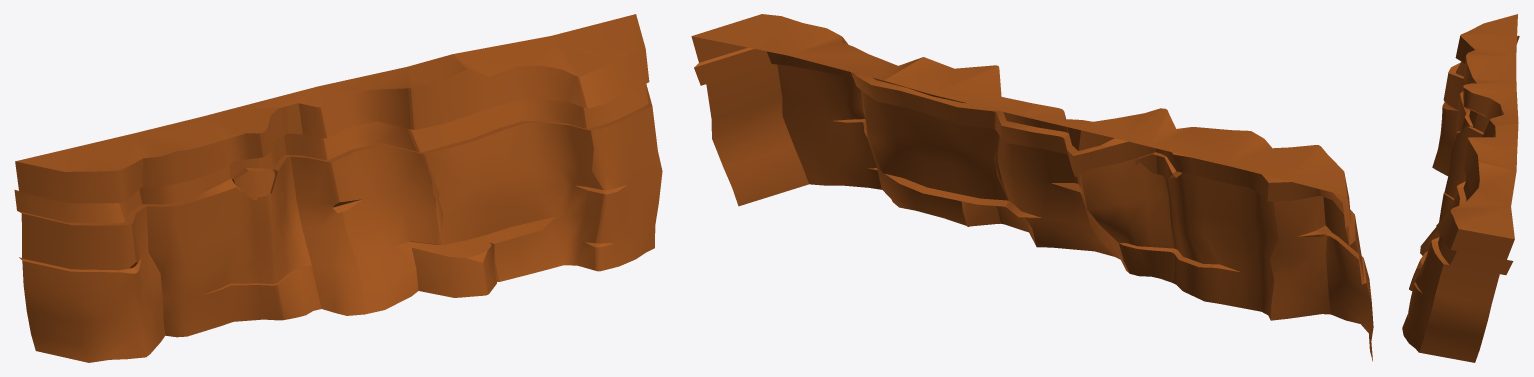
File: SM_Mars_Cliff_02.fbx
3 renders of one model, left to right at view 1: azimuth 30°, elevation 25°; view 2: azimuth 150°, elevation 25°; view 3: azimuth 270°, elevation 25°, orthographic. The views are drawn at different scales.
Visible parts, largest first — view 1: Cliff_01; view 2: Cliff_01; view 3: Cliff_01.
Boxes of the visible parts, x1,y1,x2,y2 form: Cliff_01: (14,14,662,362); Cliff_01: (691,14,1373,361); Cliff_01: (1402,14,1519,362).
Bounding box in the file's own units: 8884 × 2540 × 1952.
